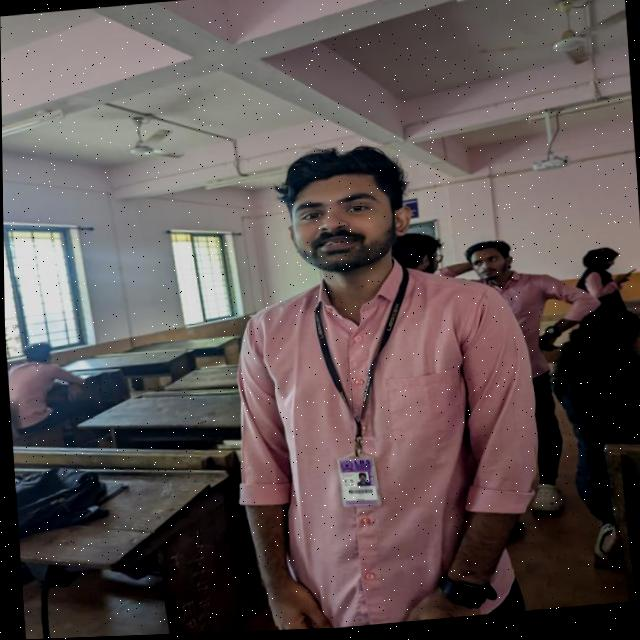id_card: (306, 268, 420, 519)
